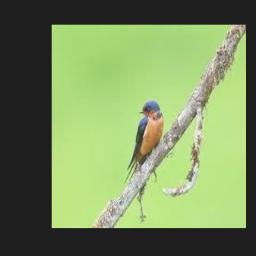Swallow: (125, 100, 164, 186)
